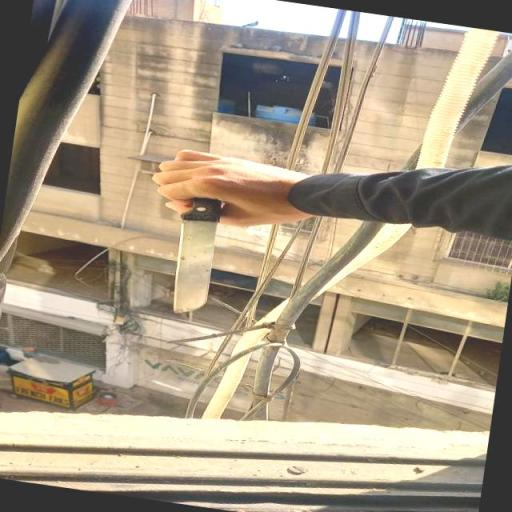knife: (154, 157, 246, 323)
